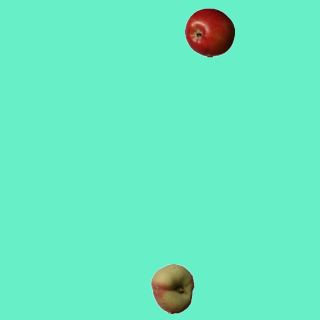Apple Braeburn: (184, 7, 234, 57)
Peach Flat: (147, 263, 197, 313)
